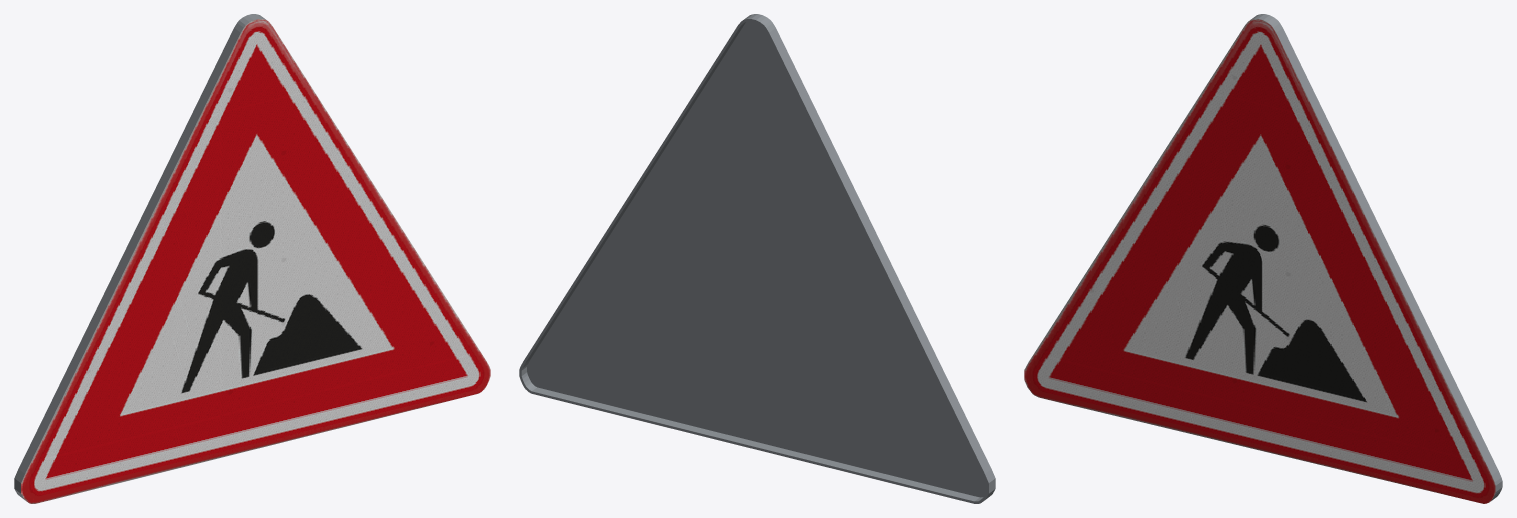
3 renders of one model, left to right at view 1: azimuth 30°, elevation 25°; view 2: azimuth 150°, elevation 25°; view 3: azimuth 330°, elevation 25°, orthographic.
Visible parts, largest first — view 1: cat_a614bb0fdb285e5e; view 2: cat_a614bb0fdb285e5e; view 3: cat_a614bb0fdb285e5e.
Boxes of the visible parts, <box> form: cat_a614bb0fdb285e5e: <box>14,14,490,503</box>; cat_a614bb0fdb285e5e: <box>519,14,995,503</box>; cat_a614bb0fdb285e5e: <box>1024,14,1502,503</box>.
Size of the model in its own units: 0.6 by 0.015 by 0.5256.
2 materials, 1 textured.
